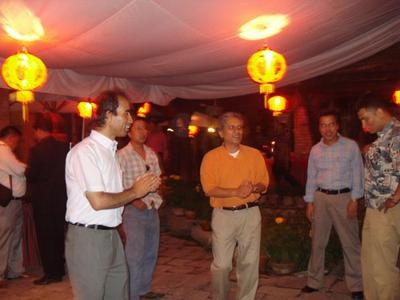person without safety: (198, 106, 274, 300), (300, 103, 367, 300), (66, 84, 132, 276), (351, 90, 399, 299)
